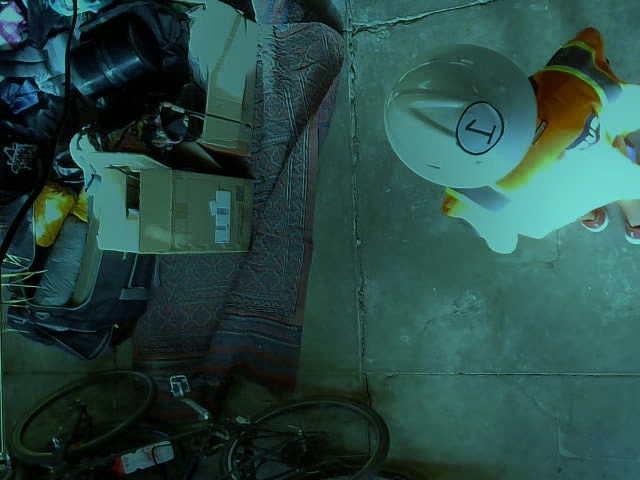one: (456, 102, 504, 157)
